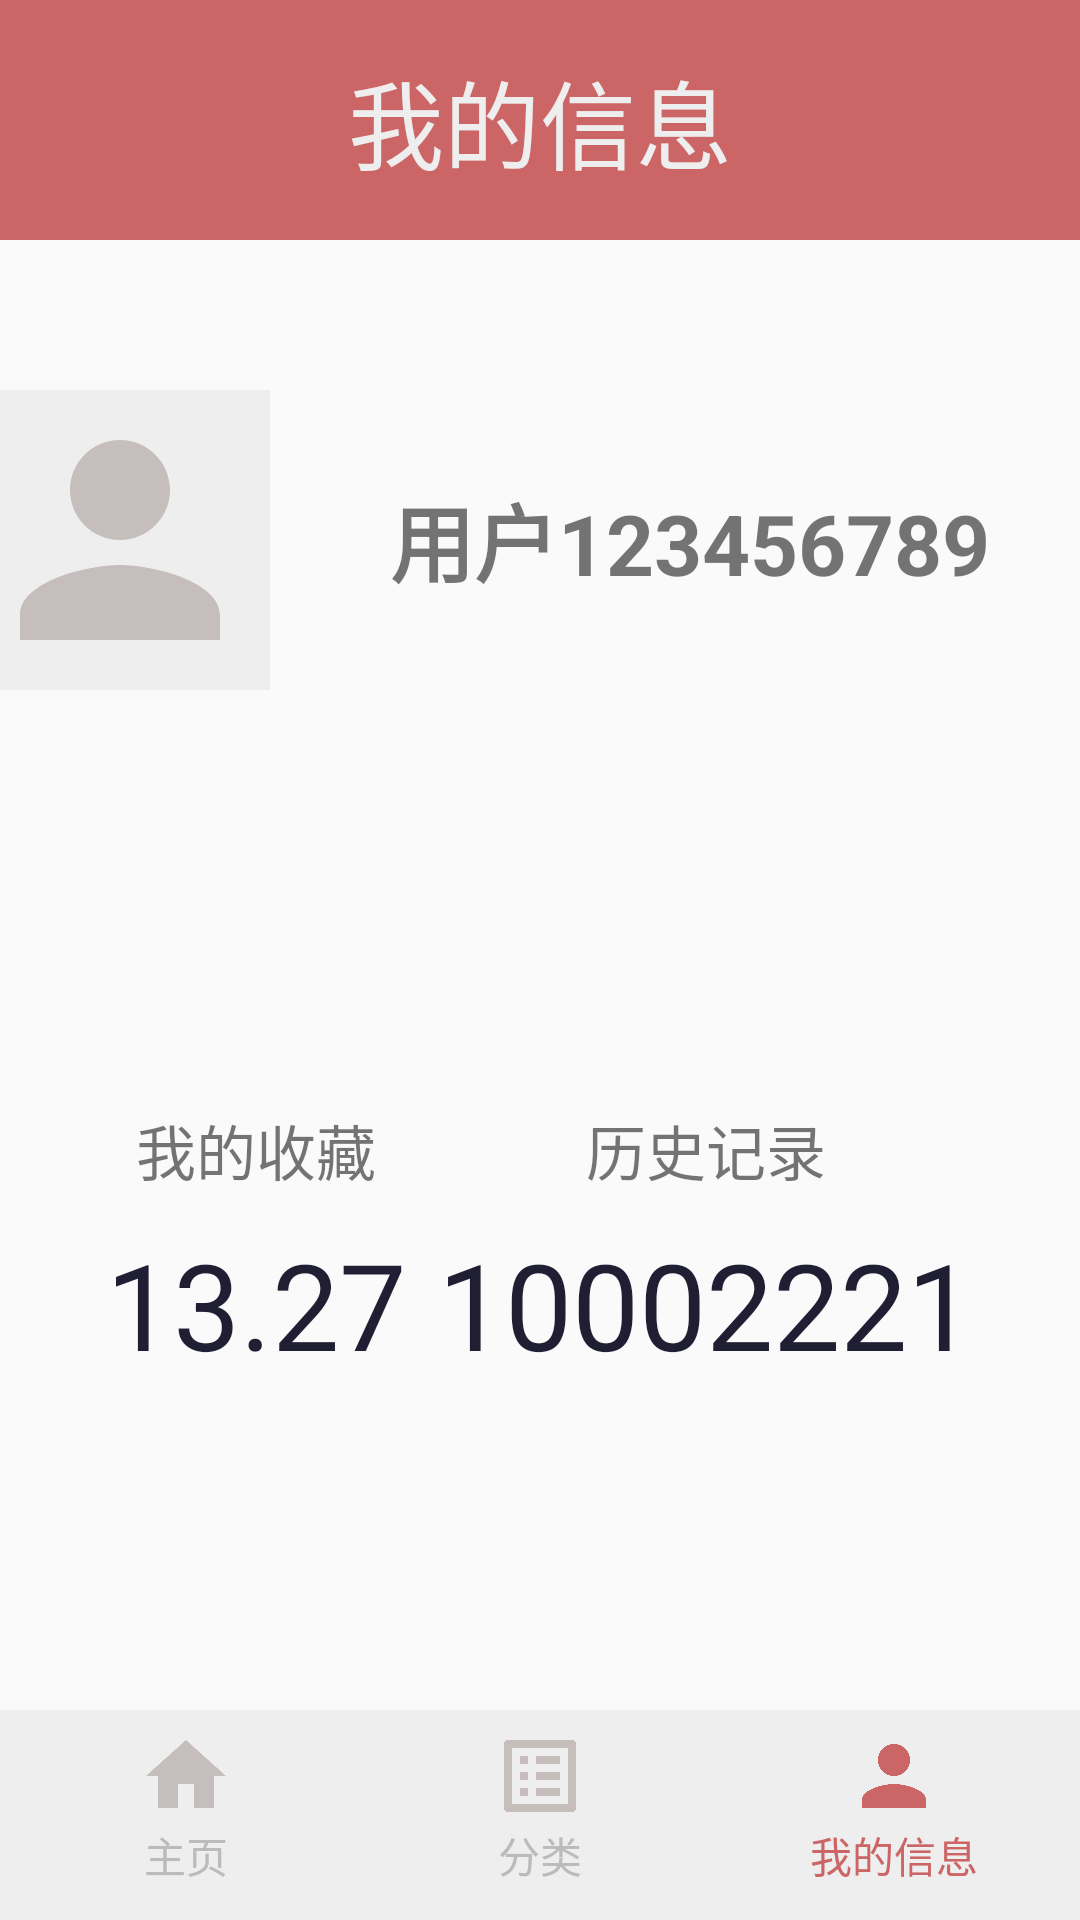

Screen size 1080 × 1920. Icon name, then its center in pixels as point (x, y):
list: point (540, 1776)
person: point (120, 540), point (894, 1776)
